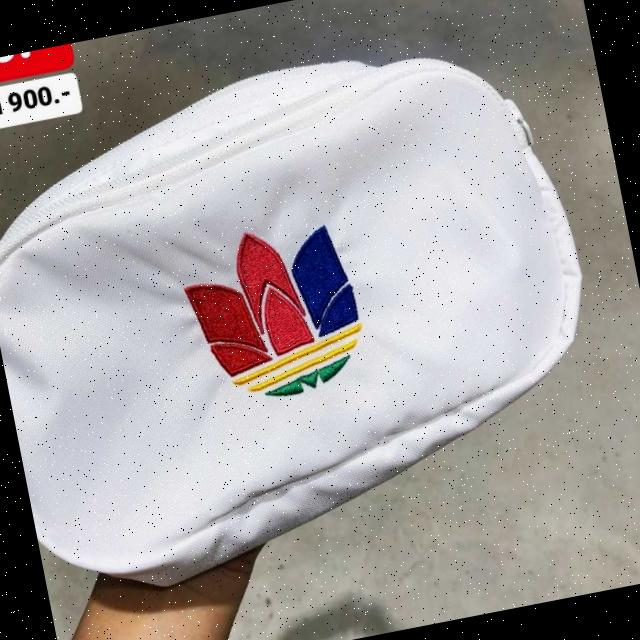Handbag: (0, 15, 635, 612)
